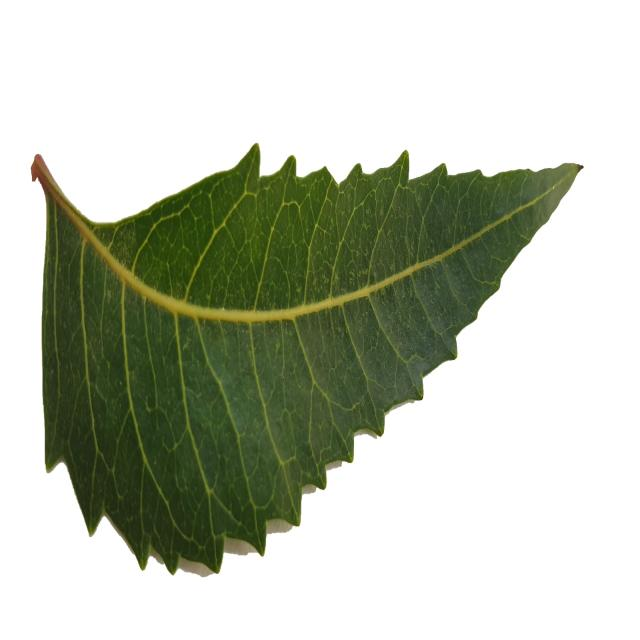Medicinal-Neem: (30, 138, 585, 580)
